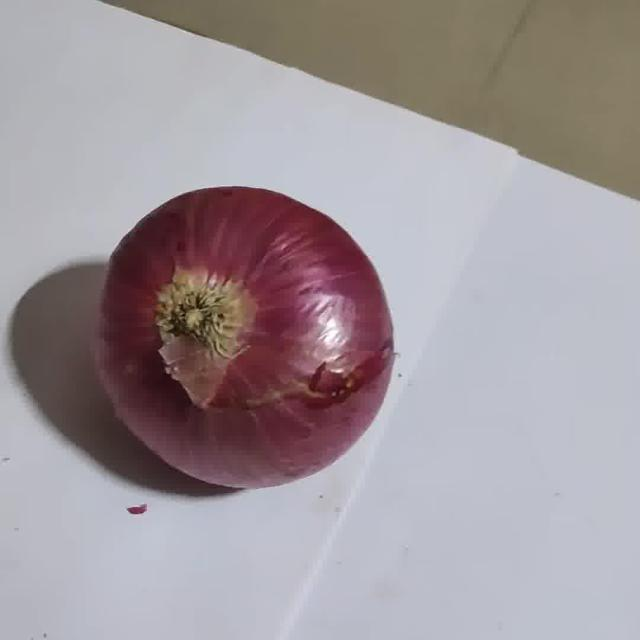Onion: (100, 187, 394, 489)
